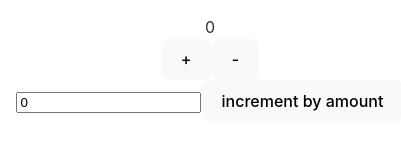
Test: increment, decrement テスト › decrement ボタンをクリックしたとき、store の値が1減少する
The width and height of the screenshot is (401, 160).
Click the button "-". click: [236, 59]
box: [212, 39, 259, 80]
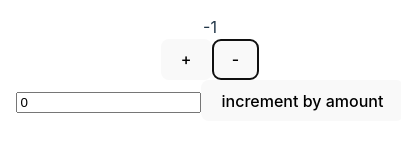
Now the text with test id "countValue" reads "-1", box [203, 17, 217, 37]
